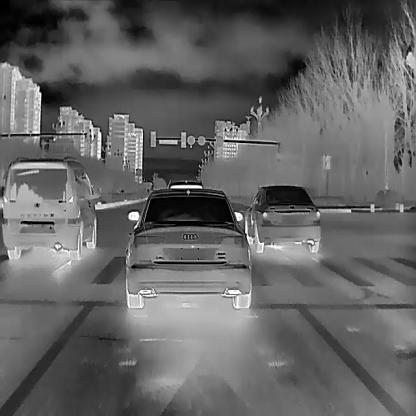car: (123, 188, 252, 308), (0, 154, 99, 260), (242, 183, 320, 252)
